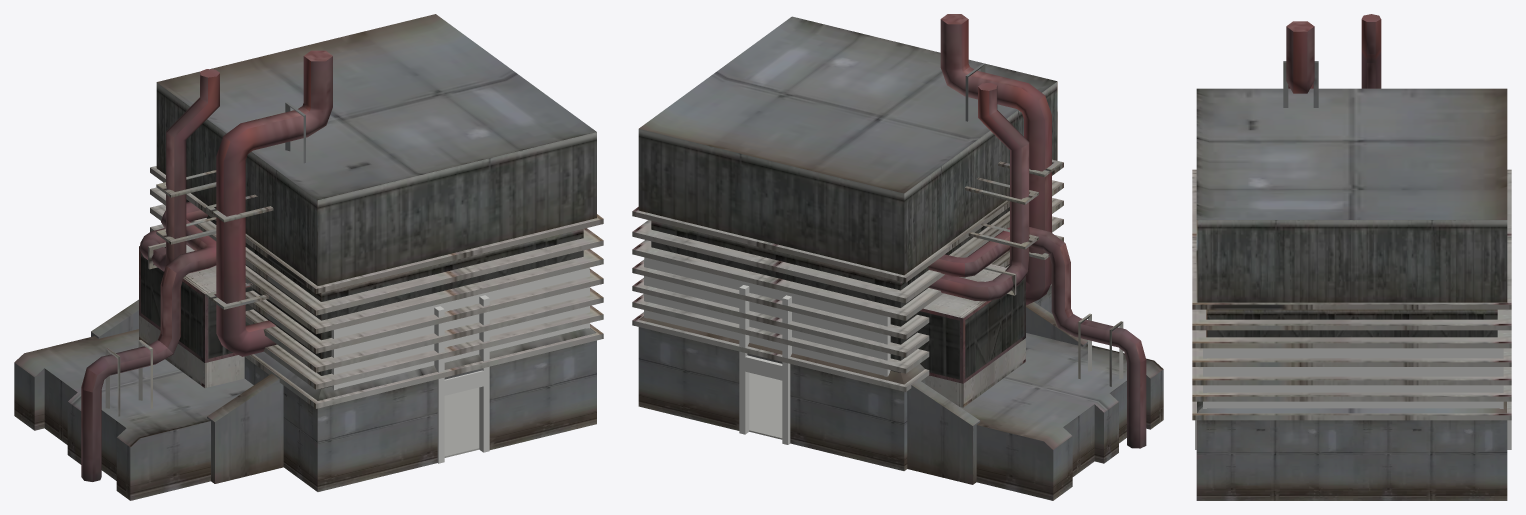
File: ind-smith.zfix-v1.lod0.glb
The picture shows the model from 3 angles, left to right: view 1: azimuth 30°, elevation 25°; view 2: azimuth 150°, elevation 25°; view 3: azimuth 270°, elevation 25°; orthographic projection. The views are drawn at different scales.
Visible parts, largest first — view 1: Industrial_Smth_1_Industrial_Walls_FLR_1_0, Walkable floors and stairs (×2); view 2: Industrial_Smth_1_Industrial_Walls_FLR_1_0, Walkable floors and stairs (×2); view 3: Industrial_Smth_1_Industrial_Walls_FLR_1_0, Walkable floors and stairs.
Part boxes in pixels (box(x1,y1,x2,y2)): Industrial_Smth_1_Industrial_Walls_FLR_1_0: box(14, 14, 603, 500); Walkable floors and stairs (×2): box(331, 267, 589, 463); Industrial_Smth_1_Industrial_Walls_FLR_1_0: box(632, 14, 1163, 500); Walkable floors and stairs (×2): box(644, 257, 890, 444); Industrial_Smth_1_Industrial_Walls_FLR_1_0: box(1192, 14, 1511, 500); Walkable floors and stairs: box(1195, 348, 1511, 449).
Bounding box in the file's own units: 18.34 × 15.04 × 11.8.
3 materials, 1 textured.
